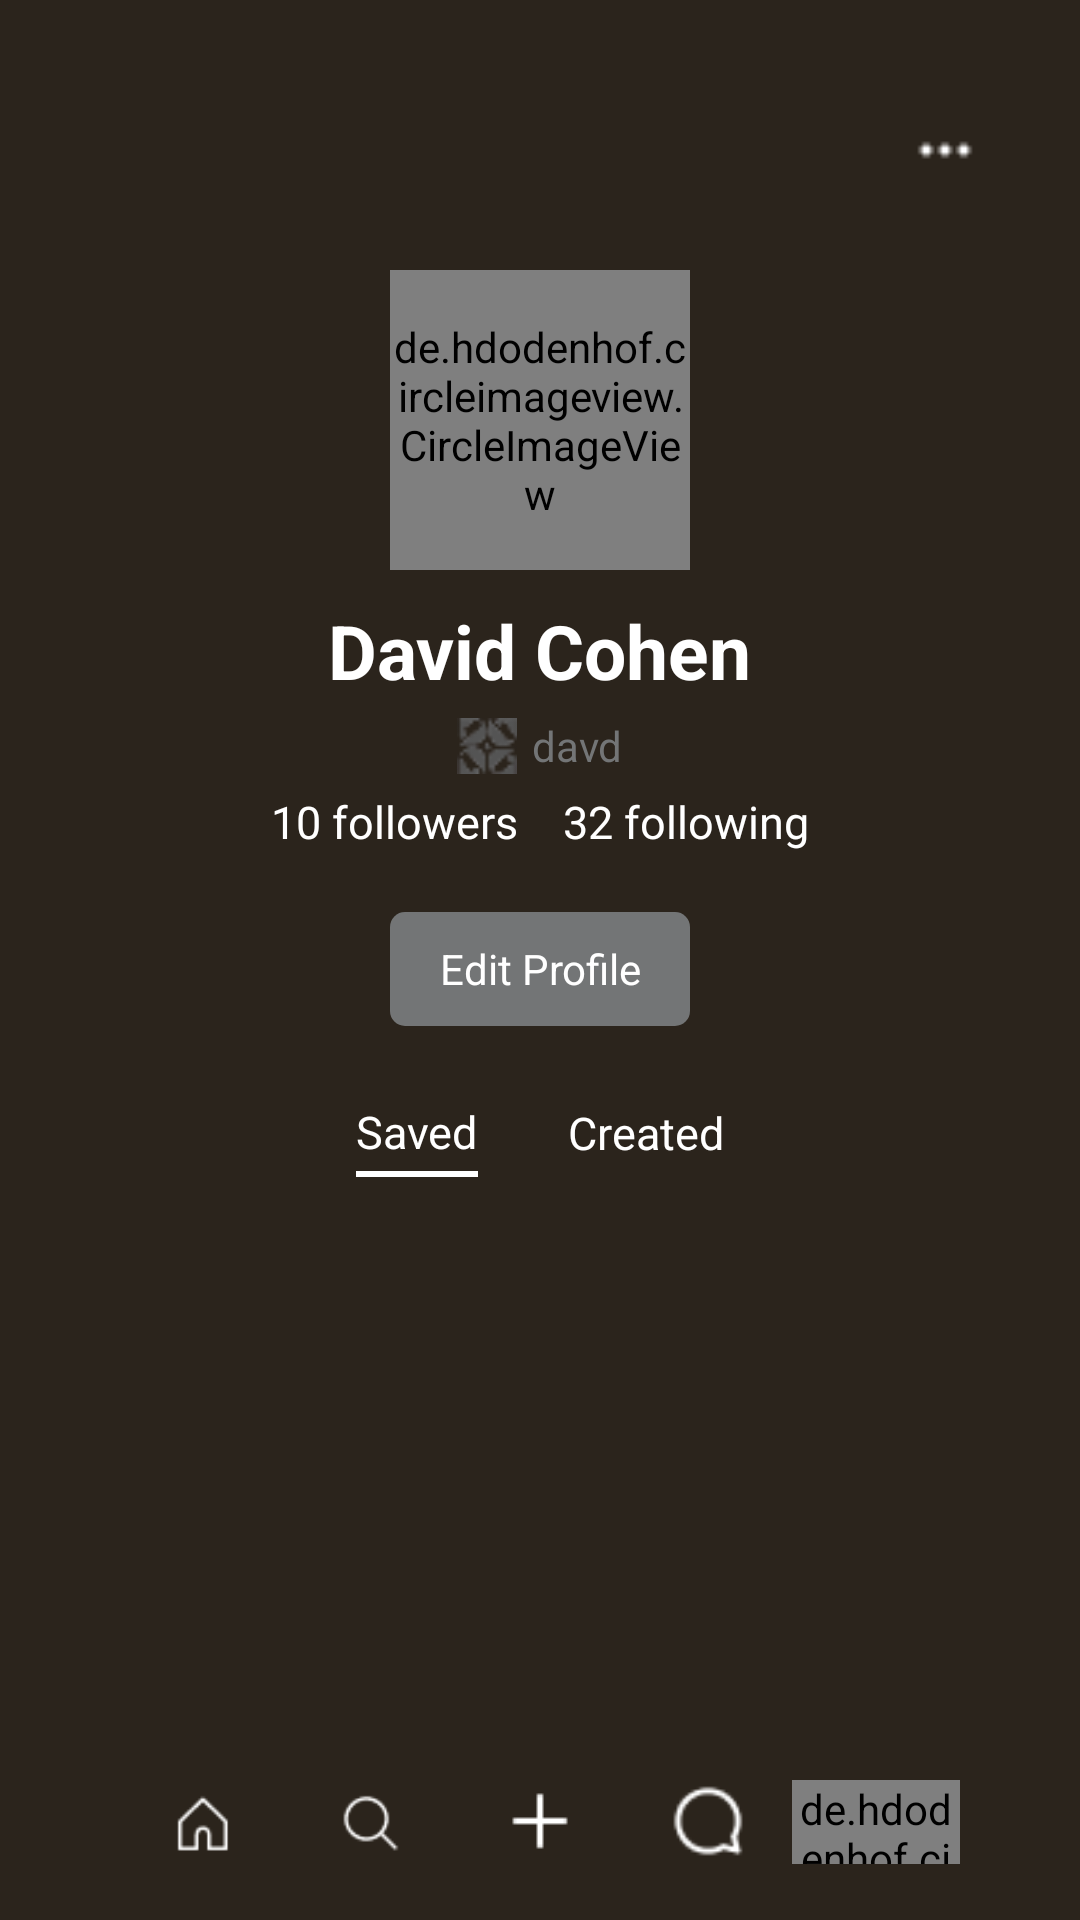

Screen size 1080w x 1920h. Icon name, then its box in pixels as (x1, y1, x2, y2):
comment: (673, 1786, 743, 1856)
options: (918, 142, 972, 158)
plus: (512, 1793, 568, 1849)
search: (343, 1796, 398, 1851)
